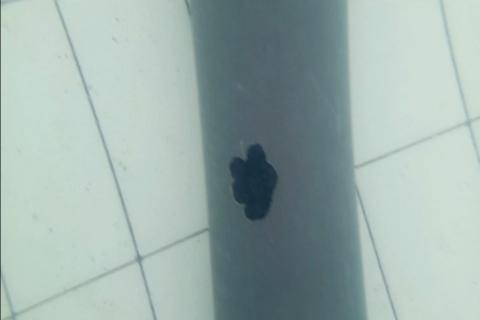kebocoran: (226, 141, 280, 222)
